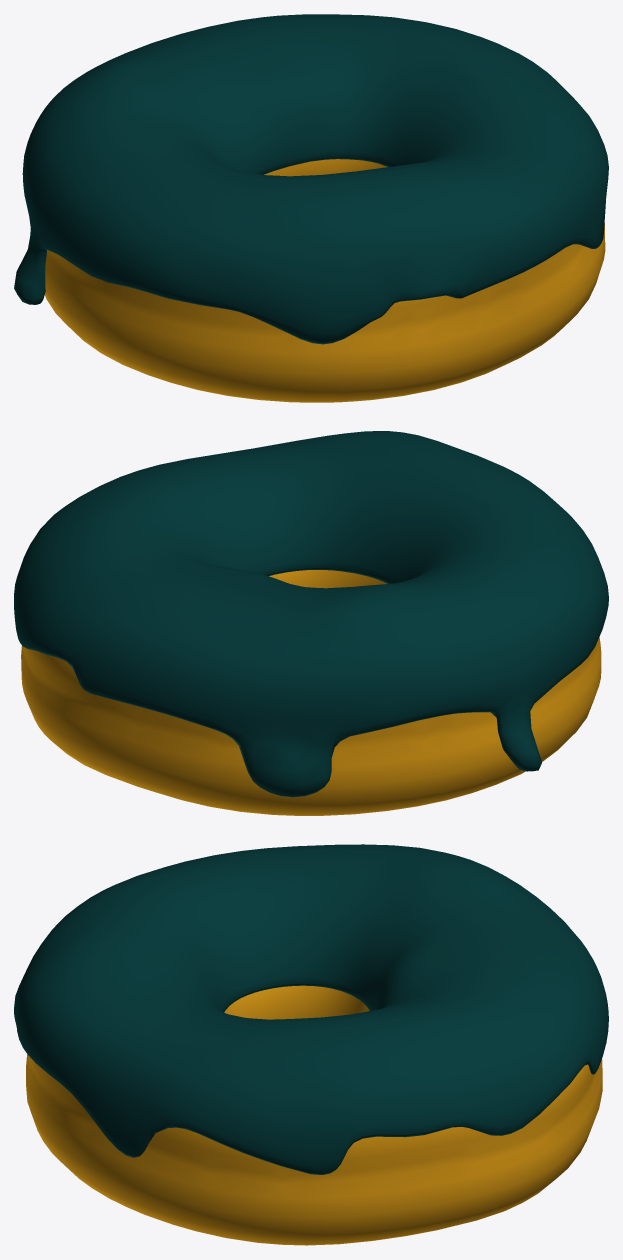
The model's file is Donut.fbx.
The picture shows the model from 3 angles, top to bottom: view 1: azimuth 30°, elevation 25°; view 2: azimuth 150°, elevation 25°; view 3: azimuth 270°, elevation 25°; orthographic projection. The views are drawn at different scales.
Parts seen in each view (by area): view 1: icing; view 2: icing; view 3: icing.
Part boxes in pixels (<box>): icing: <box>14,14,608,402</box>; icing: <box>14,431,608,815</box>; icing: <box>14,844,608,1245</box>.
Size of the model in its own units: 27.1 by 10.63 by 26.22.
